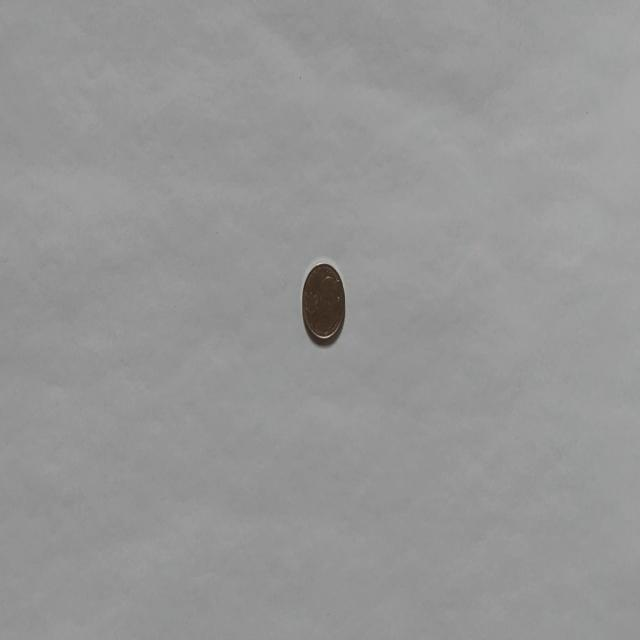seribu rupiah koin: (300, 258, 346, 345)
